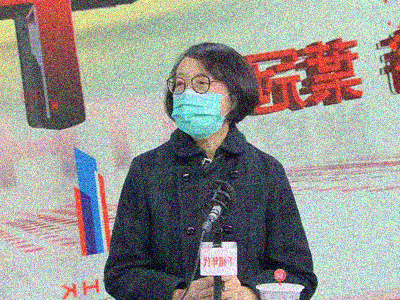with_mask: (168, 70, 229, 141)
